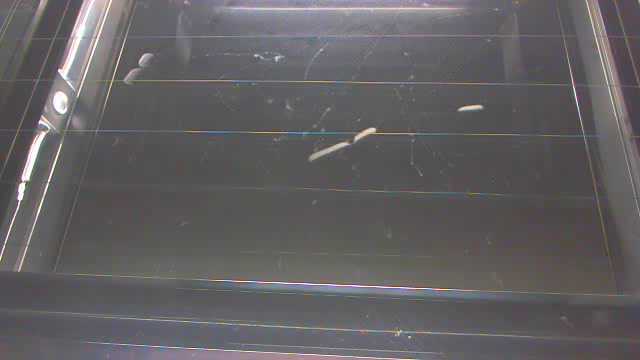alpha: (303, 108, 386, 191), (121, 46, 171, 96), (449, 91, 492, 134)
